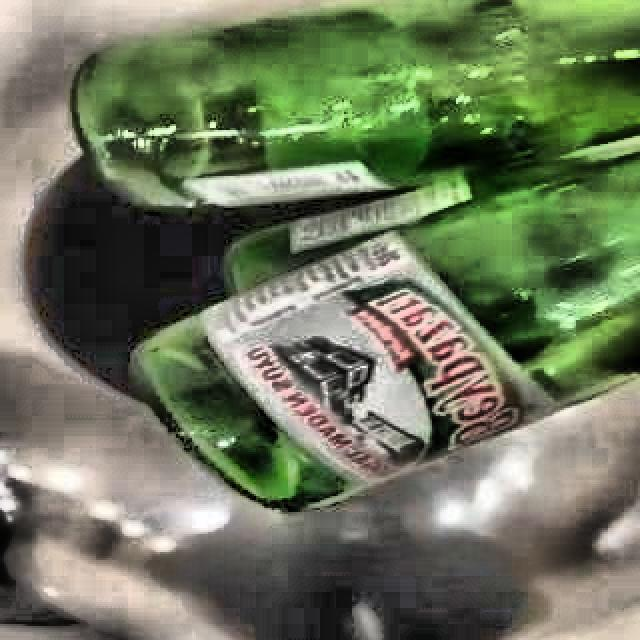glass: (69, 0, 640, 511)
